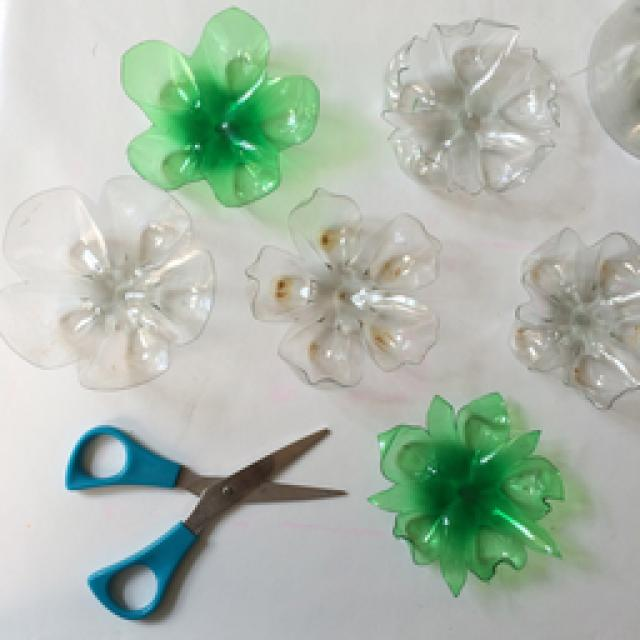plastic: (0, 8, 318, 388), (370, 392, 562, 592), (248, 190, 438, 382), (382, 20, 558, 195), (515, 230, 638, 408), (588, 0, 638, 155)
